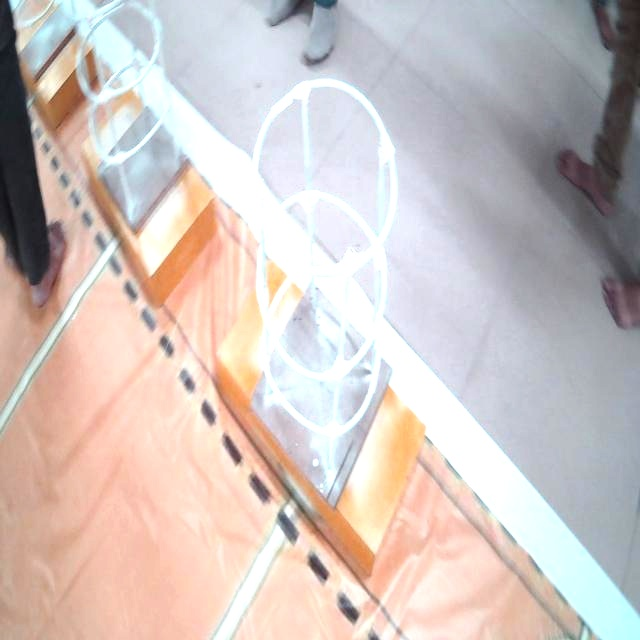silo: (246, 80, 396, 502), (74, 4, 190, 227)
